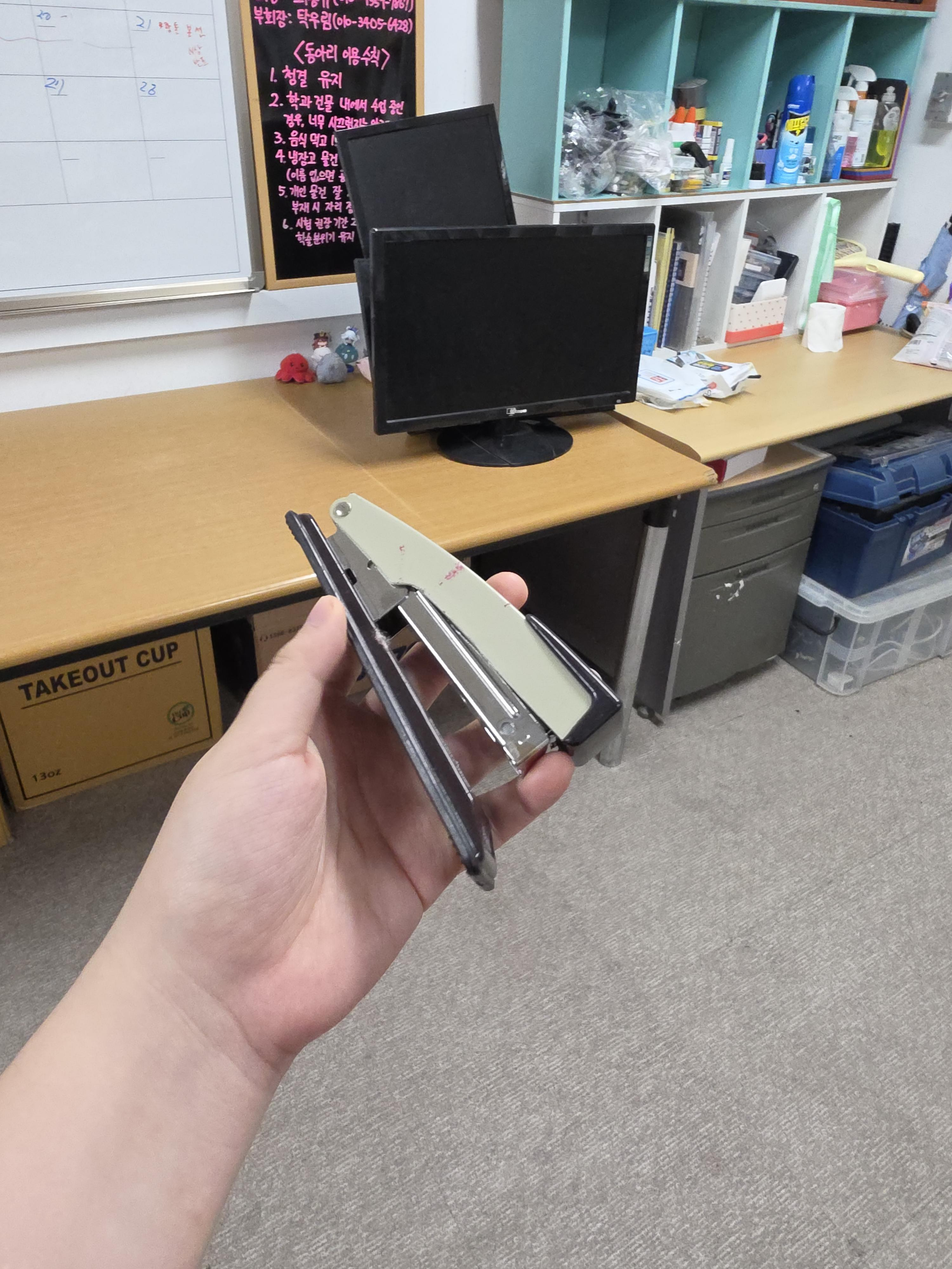stapler: (285, 493, 623, 891)
tissue: (806, 302, 847, 353)
